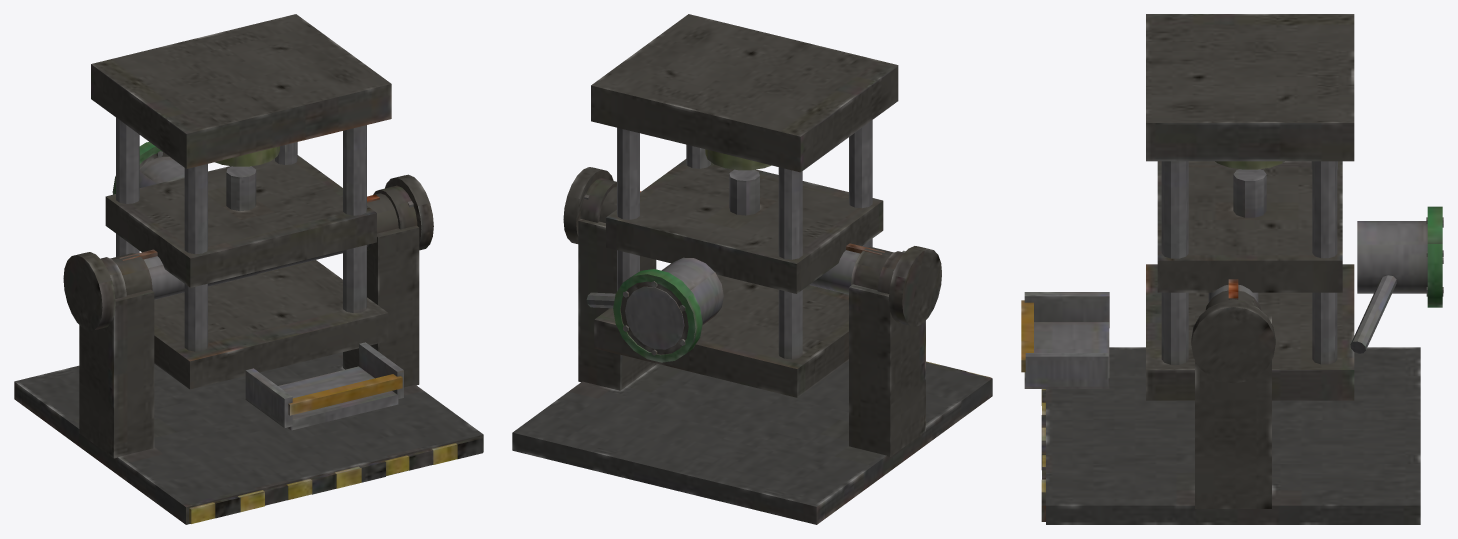
File: feVulcanizer.glb
The picture shows the model from 3 angles, left to right: view 1: azimuth 30°, elevation 25°; view 2: azimuth 150°, elevation 25°; view 3: azimuth 270°, elevation 25°; orthographic projection. The views are drawn at different scales.
Visible parts, largest first — view 1: feVulcanizer_Base, FePiston_Platen, FeSpin_DriveShaft; view 2: feVulcanizer_Base, FePiston_Platen, FeSpin_DriveShaft; view 3: feVulcanizer_Base, FePiston_Platen, FeSpin_DriveShaft.
Part boxes in pixels (bbox=[...]): feVulcanizer_Base: bbox=[14, 14, 483, 524]; FePiston_Platen: bbox=[105, 155, 376, 287]; FeSpin_DriveShaft: bbox=[63, 174, 433, 331]; feVulcanizer_Base: bbox=[512, 14, 992, 524]; FePiston_Platen: bbox=[606, 159, 883, 293]; FeSpin_DriveShaft: bbox=[563, 167, 941, 326]; feVulcanizer_Base: bbox=[1021, 14, 1443, 524]; FePiston_Platen: bbox=[1157, 161, 1342, 292]; FeSpin_DriveShaft: bbox=[1191, 279, 1275, 383].
Size of the model in its own units: 1 by 1 by 1.02.
1 material, 1 textured.
